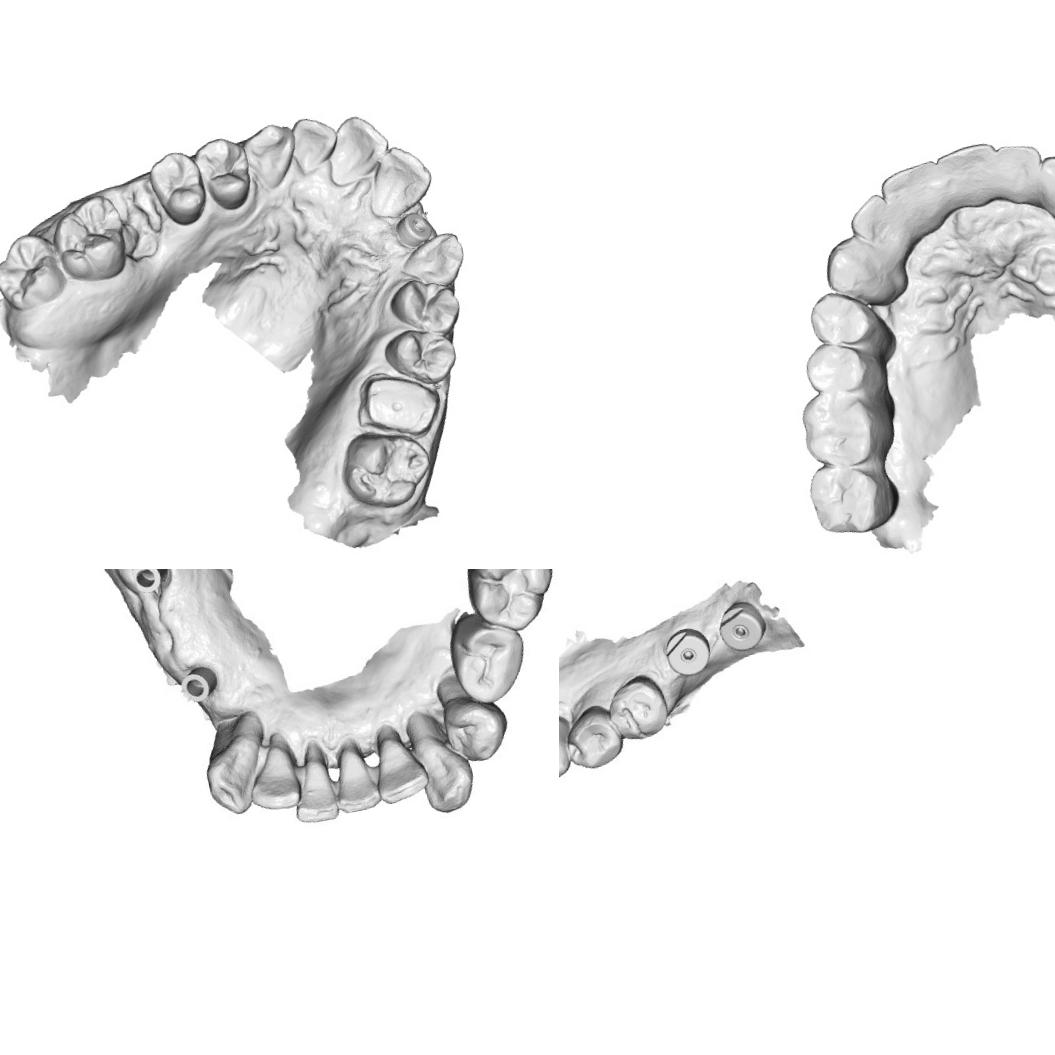canine: (402, 706, 480, 815), (198, 712, 271, 814), (818, 228, 898, 311), (239, 118, 303, 192), (400, 228, 469, 291), (1034, 145, 1055, 222), (559, 715, 575, 790)
crown: (355, 365, 448, 445)
implant: (659, 620, 716, 683), (713, 595, 770, 651), (175, 652, 224, 708), (391, 207, 438, 250), (125, 569, 174, 601)
incisor: (875, 155, 953, 243), (364, 721, 434, 808), (281, 738, 347, 828), (363, 139, 436, 216), (240, 731, 304, 818), (932, 138, 1005, 210), (324, 110, 394, 183), (328, 737, 383, 818), (989, 137, 1048, 212), (844, 189, 906, 255), (287, 111, 342, 171)
molar: (336, 419, 441, 516), (46, 189, 134, 289), (800, 453, 900, 541), (796, 384, 886, 472), (460, 569, 559, 635), (0, 227, 70, 317)
premolar: (443, 604, 536, 710), (382, 268, 466, 344), (379, 320, 462, 393), (801, 282, 880, 357), (436, 685, 510, 765), (143, 145, 211, 231), (192, 132, 256, 214), (797, 333, 872, 401), (608, 672, 670, 740), (565, 705, 625, 772)
